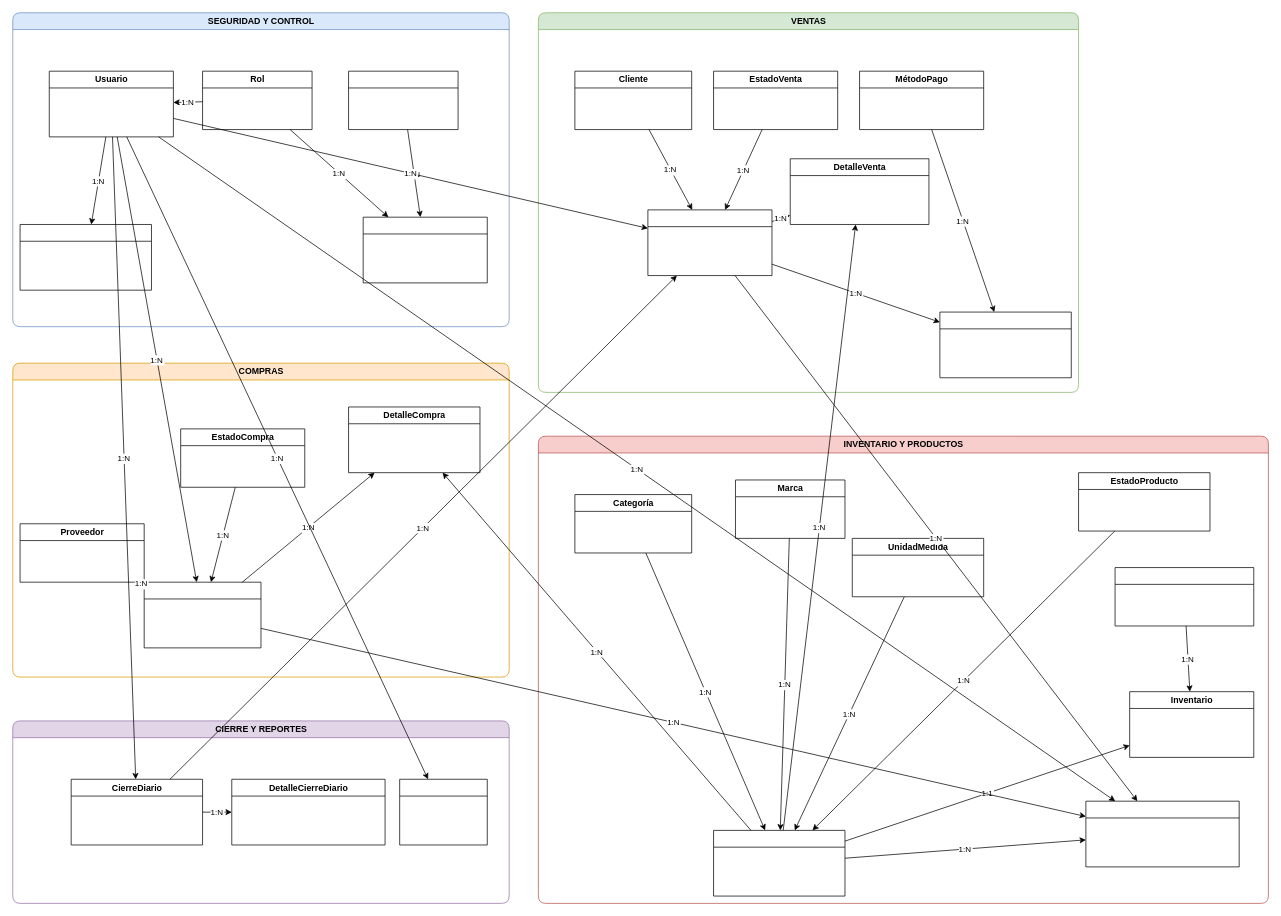
Image size: 1281x916. Some labels were removed from this diagram. Here are the shapes that lost their labels. From the top down, the centre of each, then its label:
(403,100): Permiso
(85,257): Auditoría
(424,249): RolPermiso
(709,242): Venta
(1005,344): PagoVenta
(202,614): Compra
(1184,596): EstadoInventario
(443,812): Reporte
(1162,833): MovimientoInventario
(779,863): Producto
